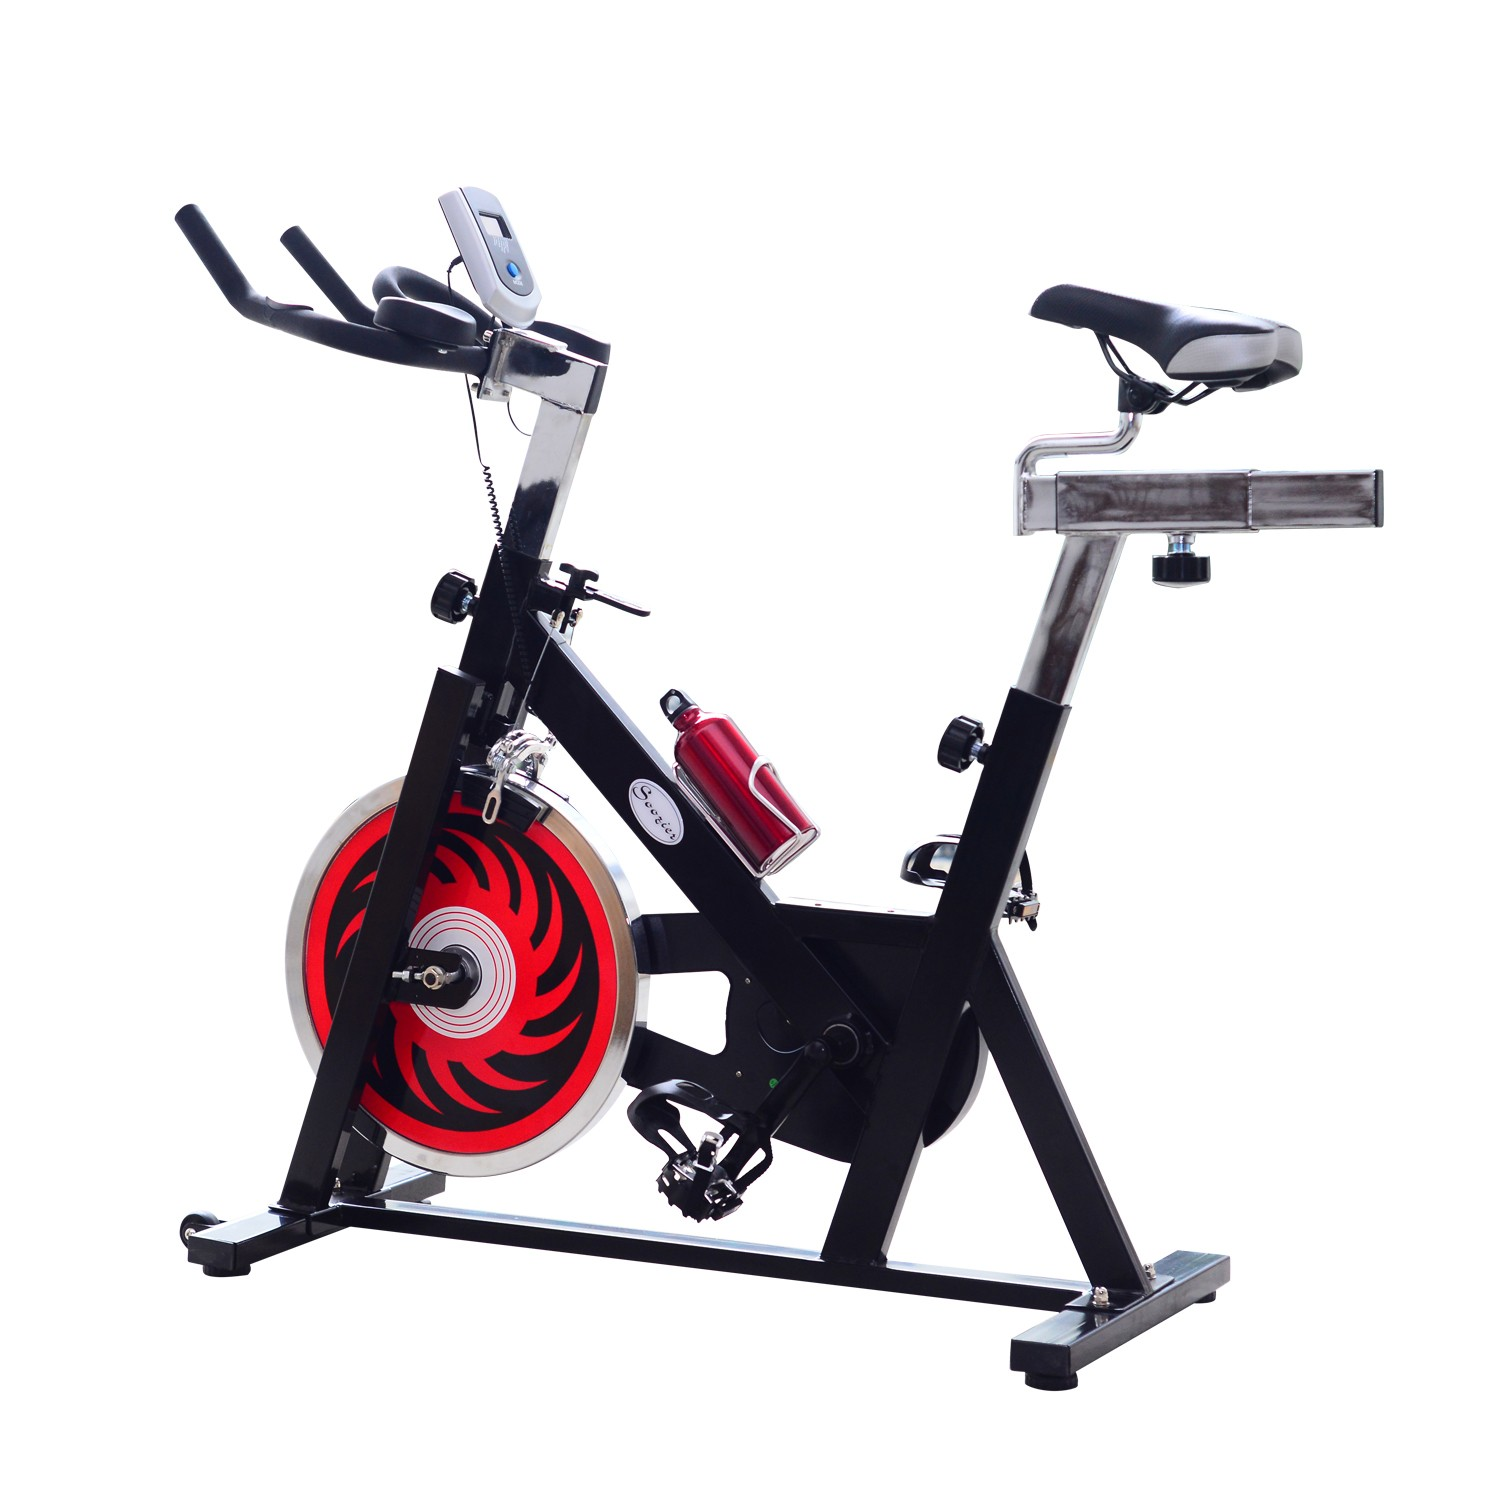gym_bike: (128, 159, 1393, 1400)
